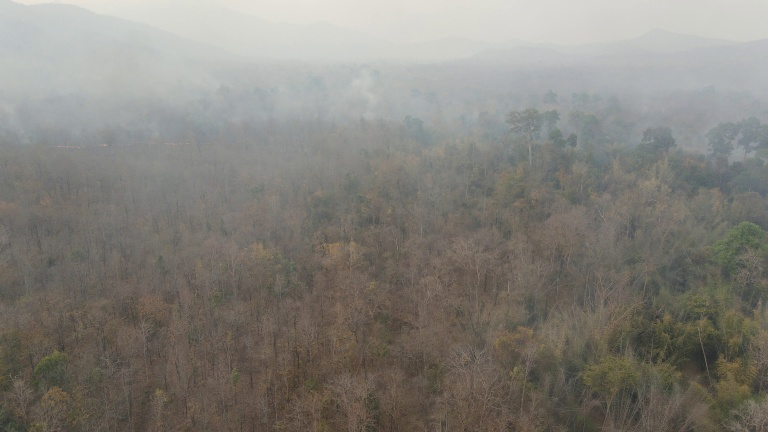fire: (47, 133, 210, 152)
smoke: (3, 1, 768, 150), (339, 63, 386, 132)
